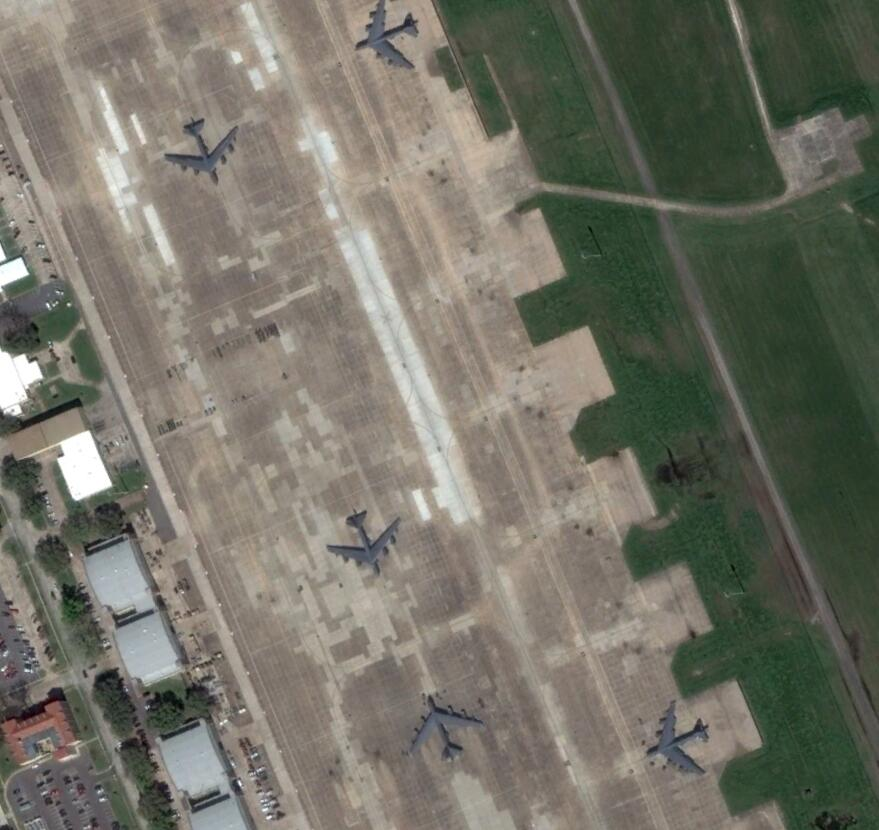A8: (324, 506, 407, 582), (640, 698, 713, 778), (161, 117, 243, 188), (404, 692, 485, 762), (350, 1, 422, 72)
